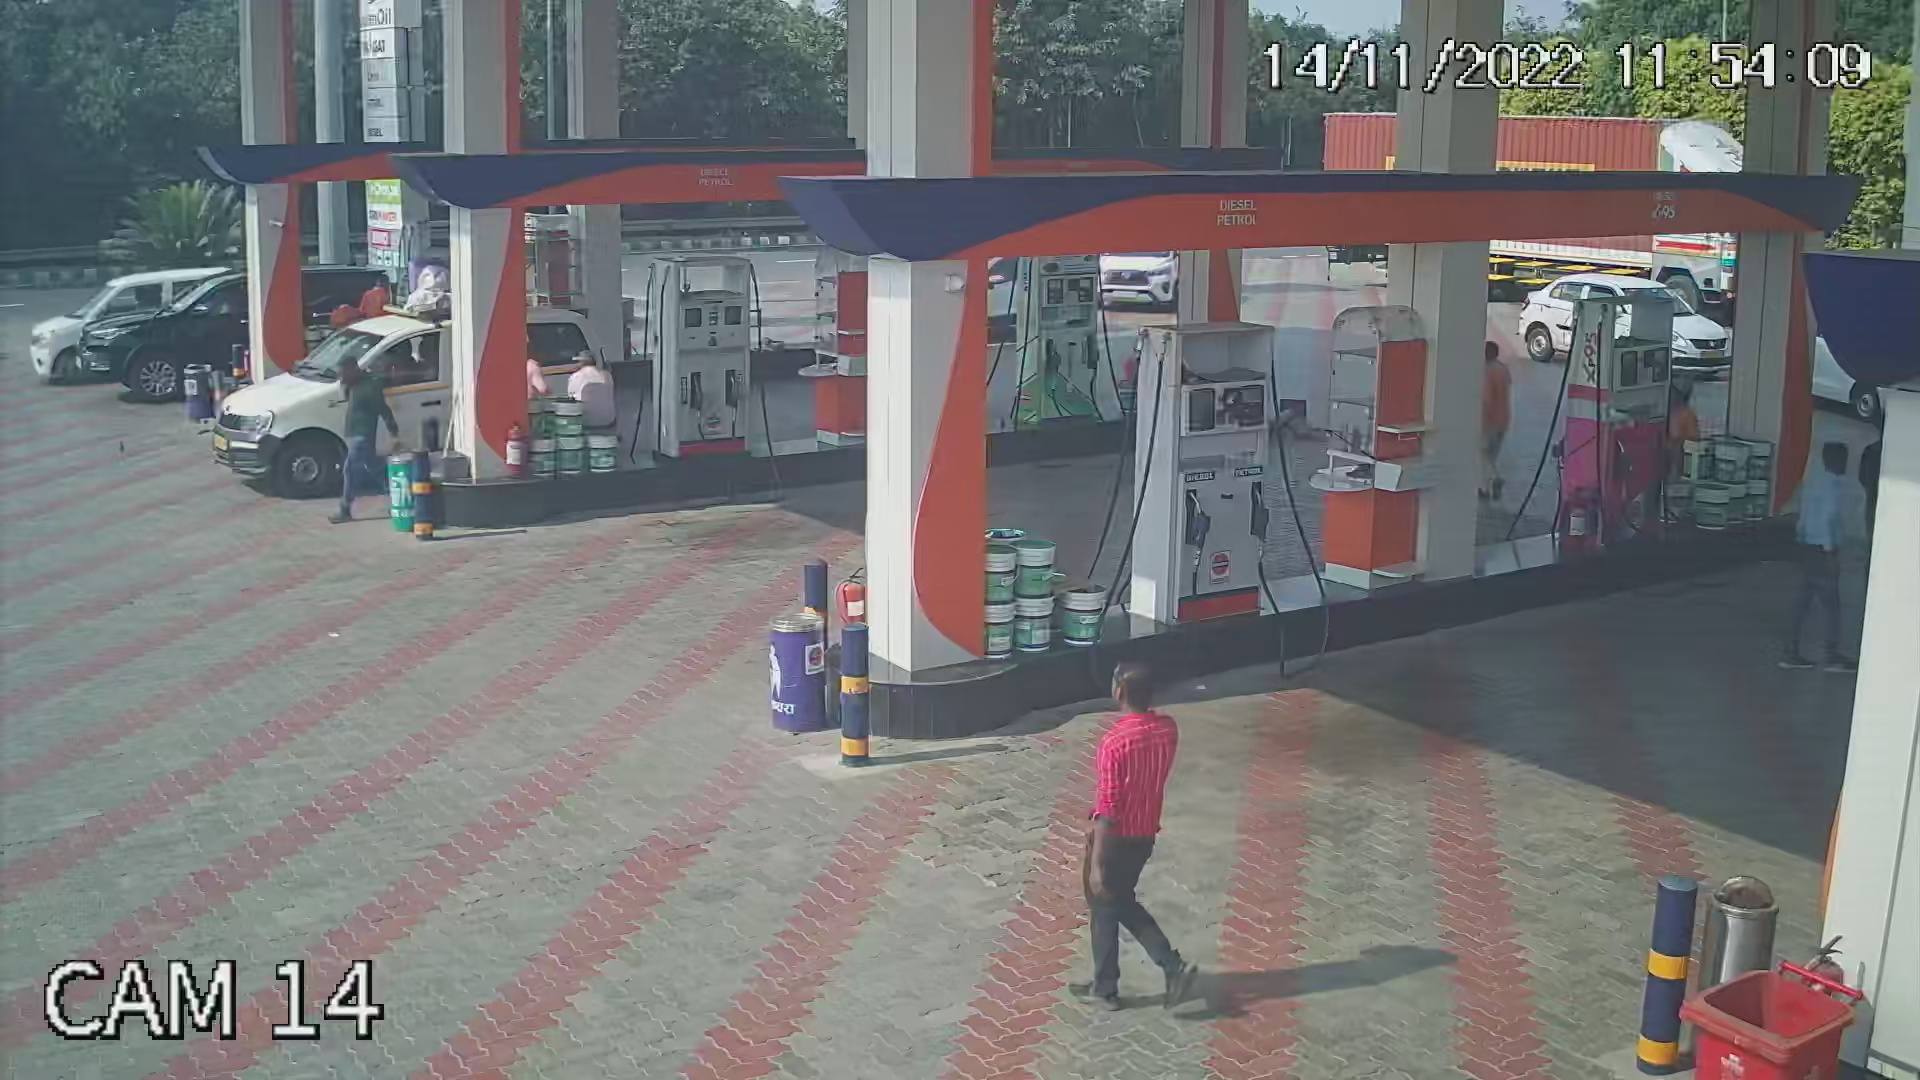Car: (210, 289, 600, 495), (73, 260, 233, 411), (1513, 273, 1735, 353), (22, 260, 108, 389), (1095, 248, 1183, 323)
HMV: (1313, 105, 1745, 171)
Others: (1668, 353, 1697, 440)
